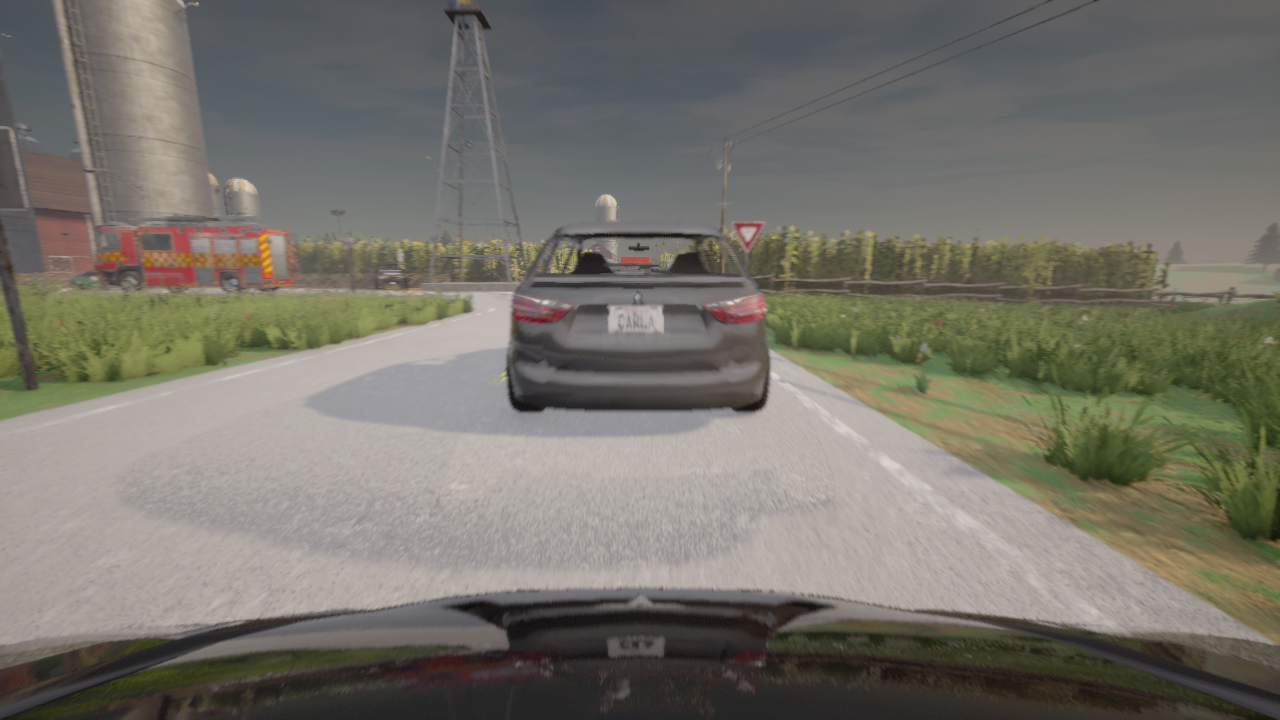cyclist: (0, 588, 1279, 719), (507, 221, 769, 411), (94, 217, 301, 294), (70, 268, 152, 290), (374, 262, 408, 289)
